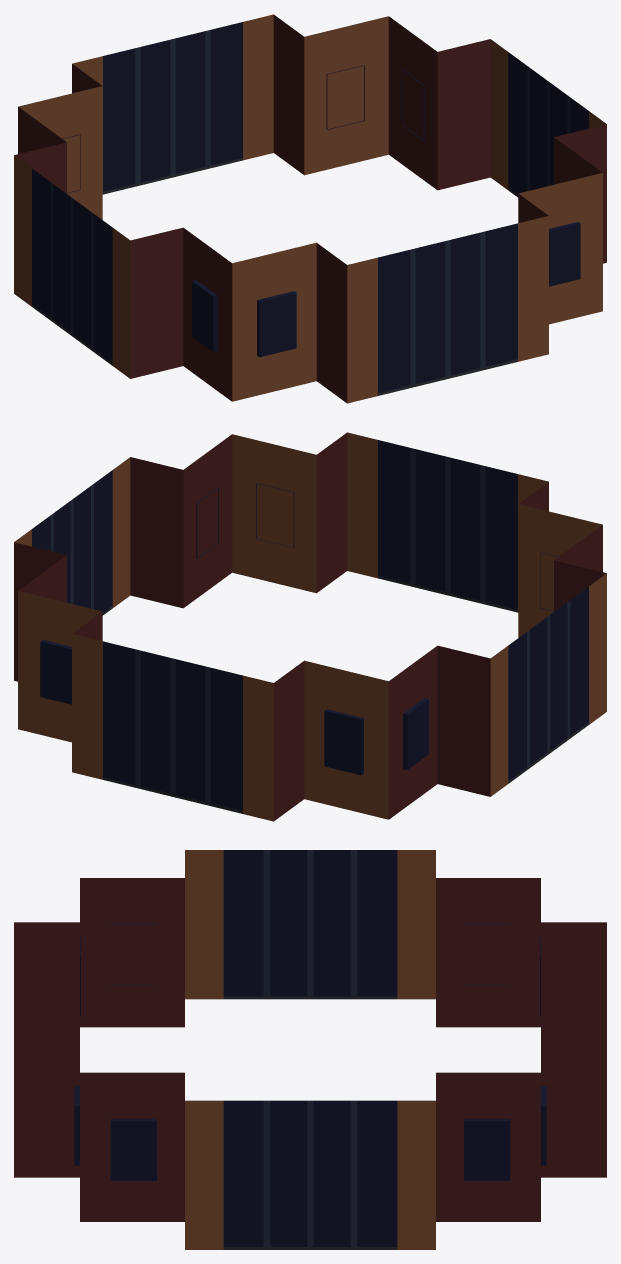
File: TB_CITY_Skysc_F_BodyB_Brown.FBX
3 renders of one model, top to bottom at view 1: azimuth 30°, elevation 25°; view 2: azimuth 150°, elevation 25°; view 3: azimuth 270°, elevation 25°, orthographic. The views are drawn at different scales.
Visible parts, largest first — view 1: TB_CITY_Skysc_F_BodyB_Brown; view 2: TB_CITY_Skysc_F_BodyB_Brown; view 3: TB_CITY_Skysc_F_BodyB_Brown.
Boxes of the visible parts, left/top/right/bottom form: TB_CITY_Skysc_F_BodyB_Brown: left=14, top=14, right=606, bottom=403; TB_CITY_Skysc_F_BodyB_Brown: left=14, top=432, right=606, bottom=821; TB_CITY_Skysc_F_BodyB_Brown: left=14, top=850, right=606, bottom=1249.
Bounding box in the file's own units: 18 × 5 × 18.
